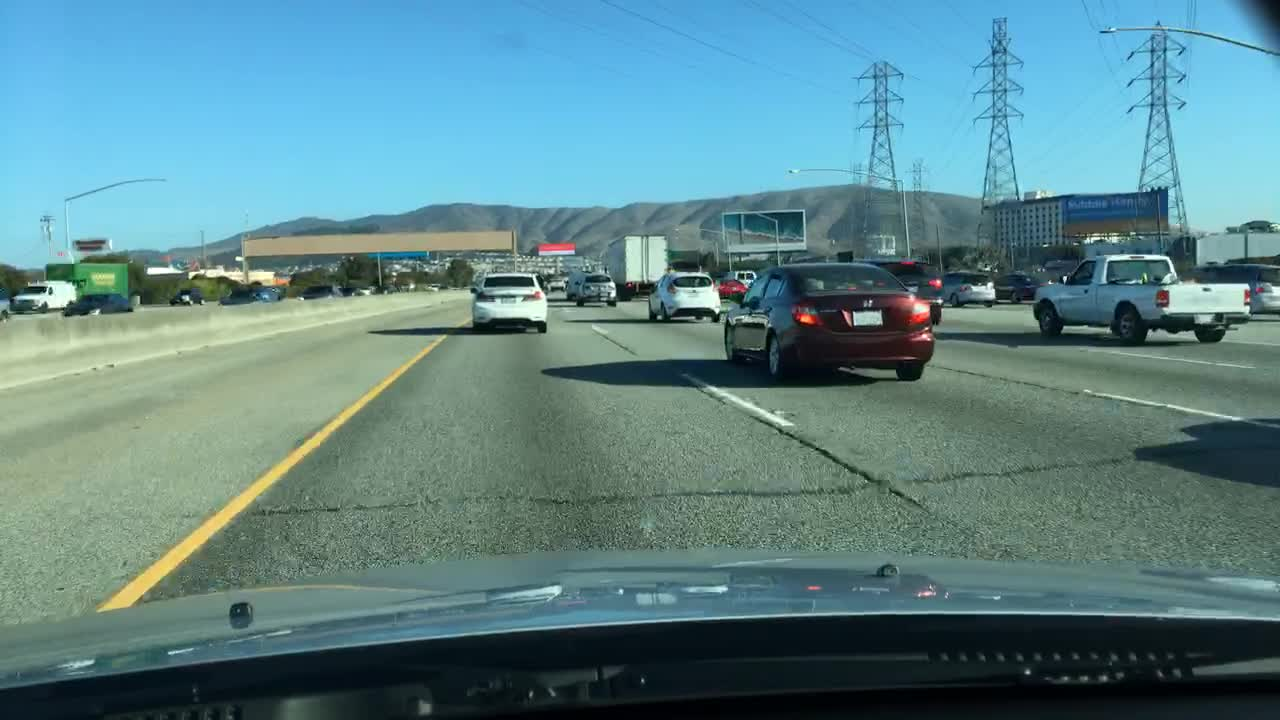car: (722, 260, 939, 386), (465, 273, 548, 336), (870, 258, 943, 327), (644, 268, 720, 322), (1208, 263, 1279, 314), (941, 272, 995, 307), (60, 290, 131, 315), (570, 270, 617, 307), (216, 282, 280, 307), (995, 273, 1039, 304), (715, 280, 747, 305), (297, 283, 341, 300), (167, 290, 206, 307), (725, 268, 756, 287), (341, 283, 371, 297), (531, 273, 550, 293), (0, 283, 10, 320), (373, 280, 395, 293), (548, 277, 567, 292), (395, 280, 415, 290), (425, 280, 442, 290)
truck: (1031, 253, 1252, 346), (8, 260, 130, 314), (604, 231, 668, 302), (563, 272, 584, 300)
